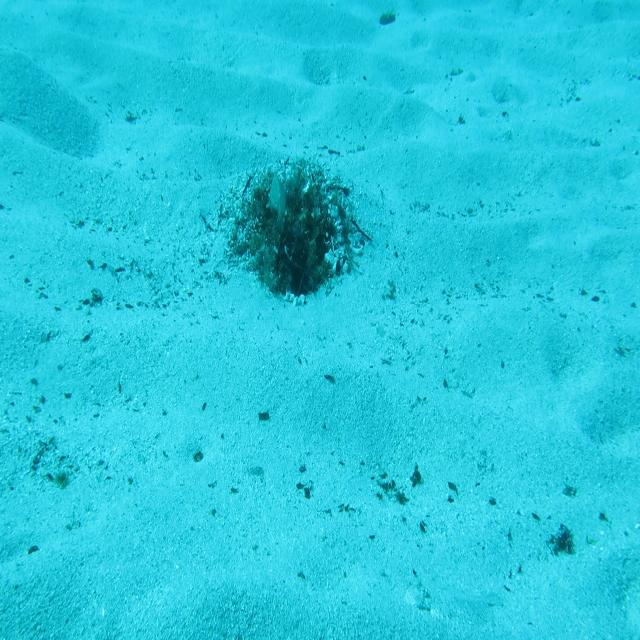NIP_IN: (266, 172, 290, 239)
core_nest: (284, 200, 322, 228)
nest: (239, 158, 374, 304)
